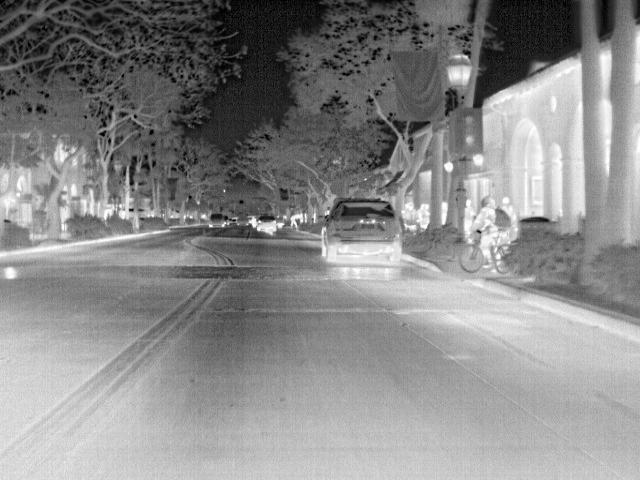car: (322, 197, 403, 262), (256, 214, 279, 234), (207, 211, 227, 230), (235, 214, 253, 228)
person: (473, 199, 507, 269), (498, 195, 520, 227), (401, 202, 418, 232), (418, 202, 431, 228), (462, 198, 474, 226), (440, 200, 452, 225)
